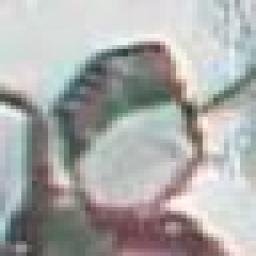crystals: (41, 38, 204, 236)
